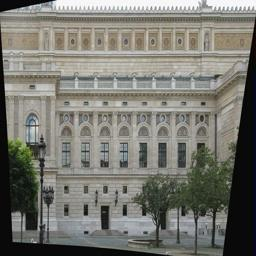building: (5, 0, 256, 253)
